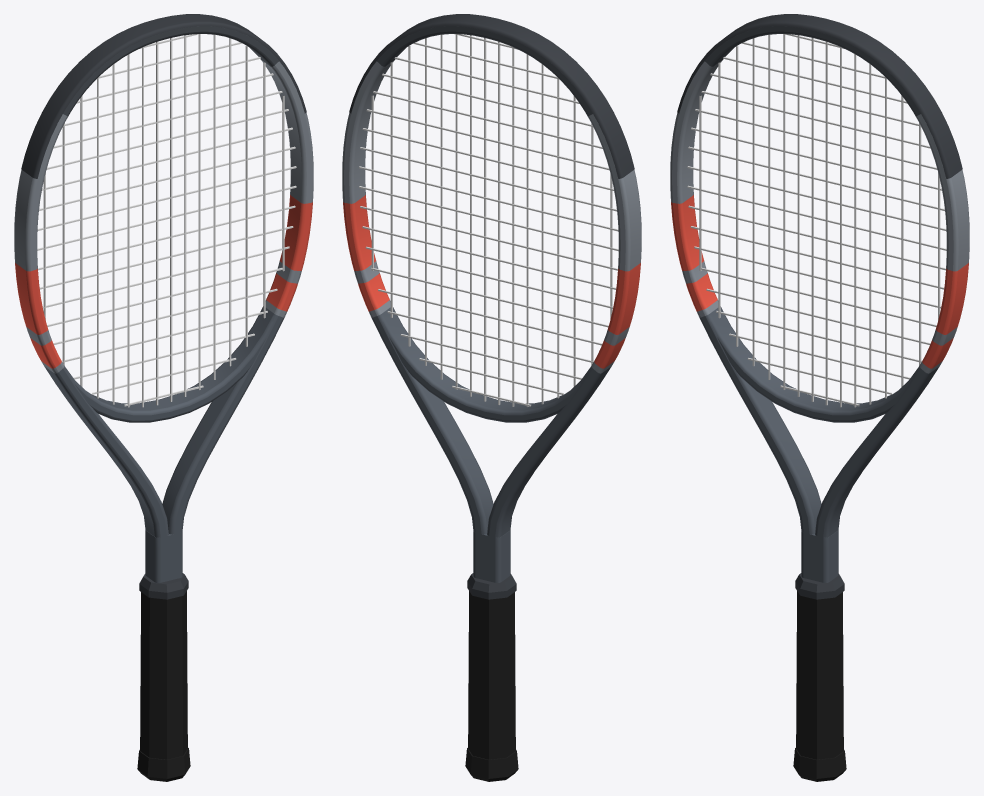
The model's file is babolat-pure-strike-junior-26-gen4.glb.
3 views of the same model, side by side, from view 1: azimuth 30°, elevation 25°; view 2: azimuth 150°, elevation 25°; view 3: azimuth 330°, elevation 25° (orthographic).
Visible parts, largest first — view 1: frame, strings_mains, strings_crosses, grip, bumper, butt_cap, collar; view 2: frame, strings_mains, strings_crosses, grip, bumper, butt_cap, collar; view 3: frame, strings_mains, strings_crosses, grip, bumper, butt_cap, collar.
Part boxes in pixels (box(x1,y1,x2,y2)): frame: box(14, 26, 313, 582); strings_mains: box(43, 34, 284, 407); strings_crosses: box(37, 34, 296, 406); grip: box(140, 591, 187, 759); bumper: box(21, 14, 306, 178); butt_cap: box(137, 748, 190, 781); collar: box(139, 573, 188, 599); frame: box(342, 26, 641, 582); strings_mains: box(371, 34, 612, 406); strings_crosses: box(359, 34, 618, 406); grip: box(468, 591, 515, 759); bumper: box(349, 14, 634, 178); butt_cap: box(465, 748, 518, 781); collar: box(467, 573, 516, 599); frame: box(670, 26, 969, 582); strings_mains: box(699, 34, 940, 407); strings_crosses: box(687, 34, 946, 406); grip: box(796, 591, 843, 759); bumper: box(677, 14, 962, 178); butt_cap: box(793, 748, 846, 781); collar: box(795, 573, 844, 599).
Size of the model in its own units: 0.2658 by 0.6607 by 0.0396.
